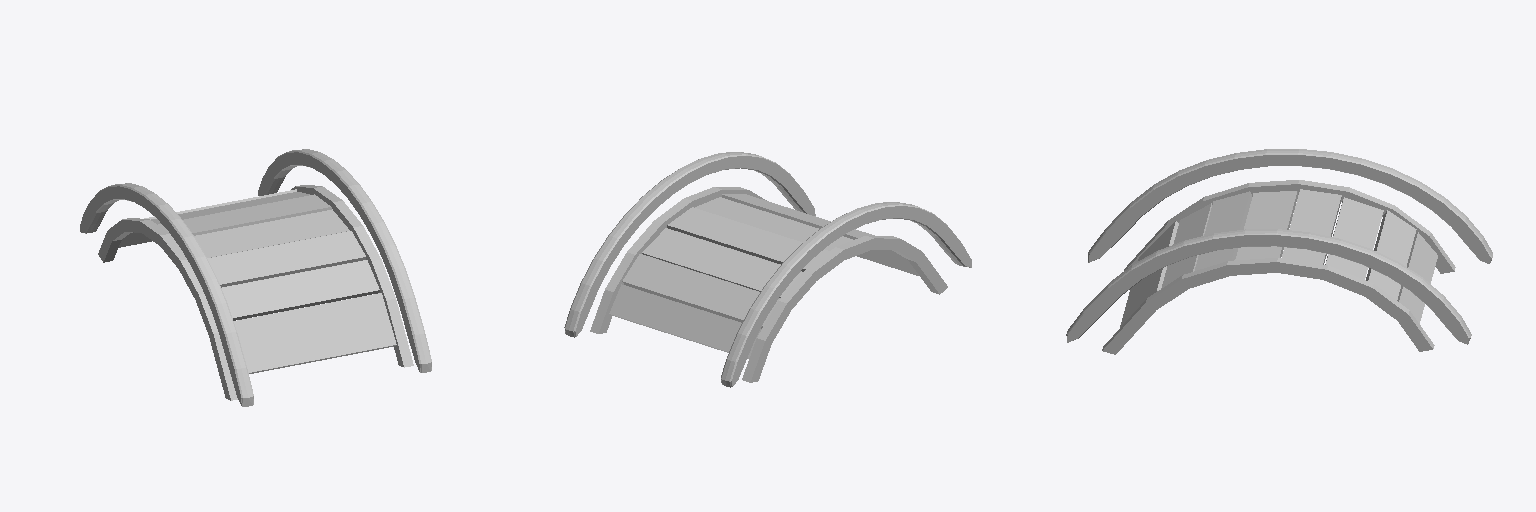
Rendered from Bridge_02.obj.
3 views of the same model, side by side, from view 1: azimuth 30°, elevation 25°; view 2: azimuth 150°, elevation 25°; view 3: azimuth 270°, elevation 25° (orthographic).
Parts seen in each view (by area): view 1: bridge1; view 2: bridge1; view 3: bridge1.
Boxes of the visible parts, x1=… form: bridge1: x1=80, y1=149, x2=431, y2=406; bridge1: x1=564, y1=152, x2=971, y2=387; bridge1: x1=1066, y1=149, x2=1492, y2=354.
Size of the model in its own units: 3.82 by 2.21 by 6.47.